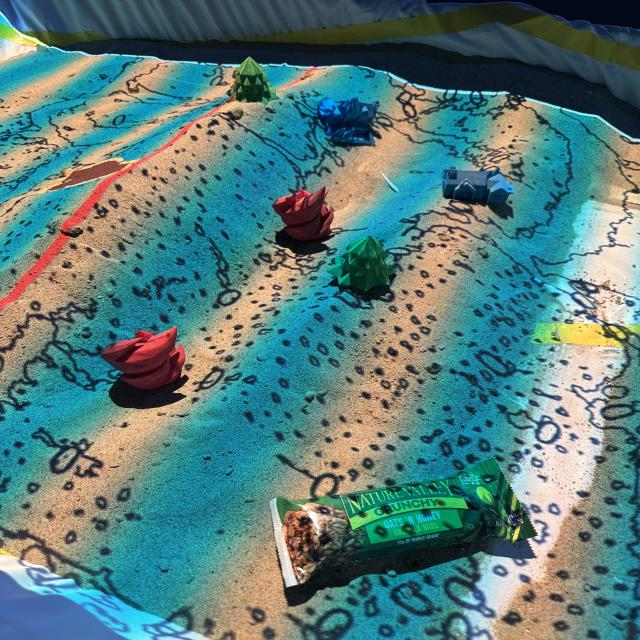fire: (102, 326, 188, 389), (272, 186, 334, 241)
house: (316, 96, 381, 146), (440, 166, 516, 207)
tree: (329, 235, 396, 293), (226, 56, 279, 104)
